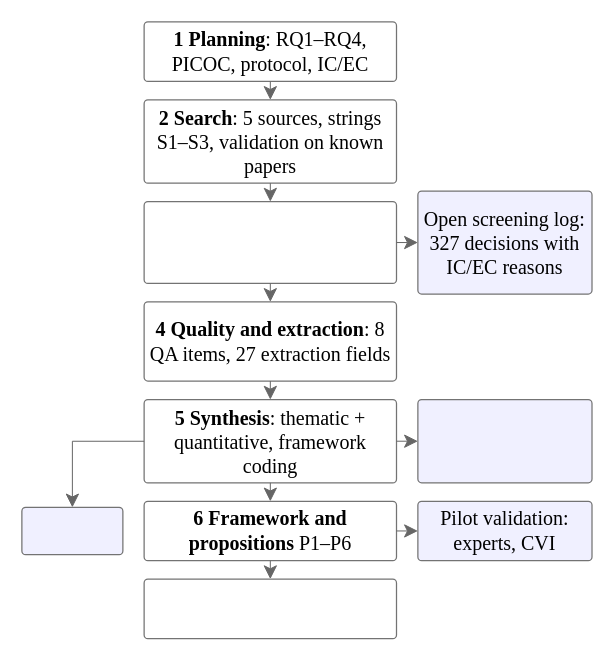
Some shapes in this 615 by 661 pixel diagram are drawn without their labels. The shapes that lost their labels are listed below. From the top down, each one's centre as x and y in pixels, then its label:
At (x=269, y=241): "3 Screening : de-duplication, relevance cut-off, title/abstract, full text".
At (x=504, y=440): "Bibliometrics: trend, venues, keywords, topics".
At (x=72, y=530): "Sensitivity: 4 scenarios".
At (x=269, y=608): "7 Gaps and agenda , case study".
